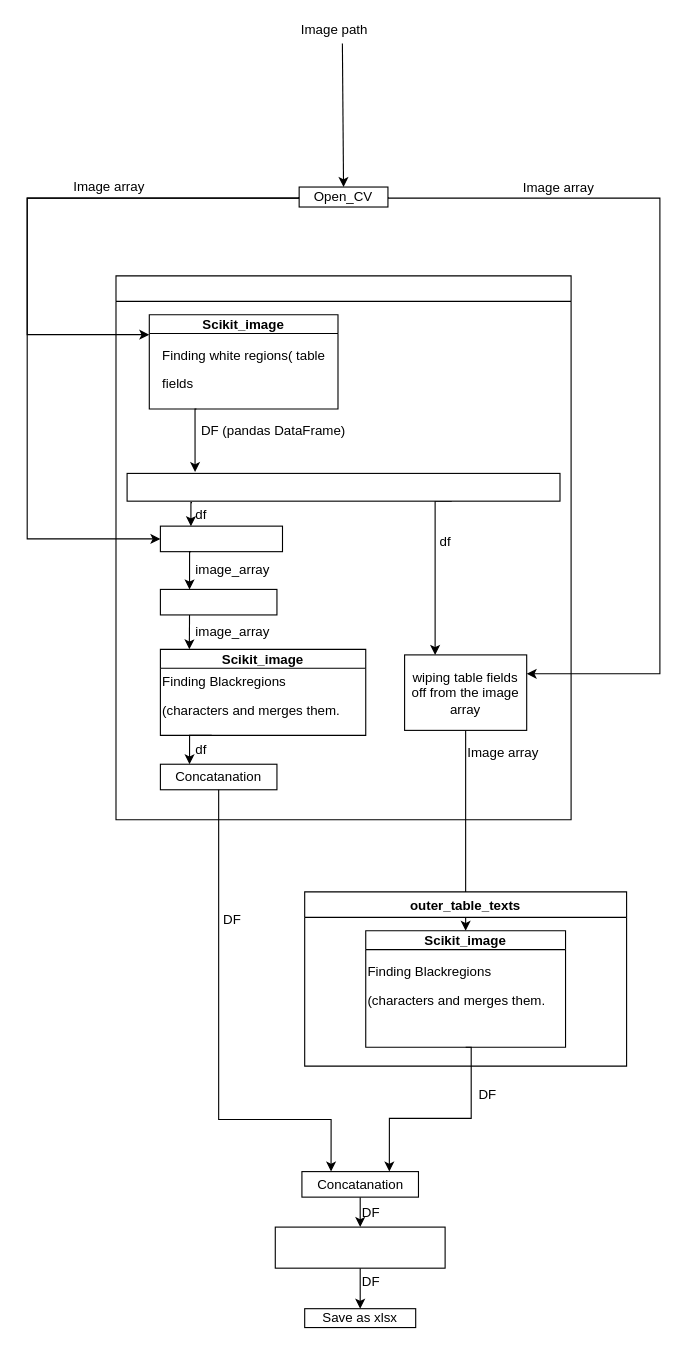
Image size: 688x1346. Some labels were removed from this diagram. Each missing label, with the box of its shape:
Clean and calculate the remaining columns: (274, 1226, 445, 1268)
Erosion: (159, 588, 277, 615)
For each row of DF (each table fields):: (126, 472, 560, 501)
Img_mask_cut: (159, 525, 282, 552)
Inner_table_texts: (115, 275, 571, 820)
